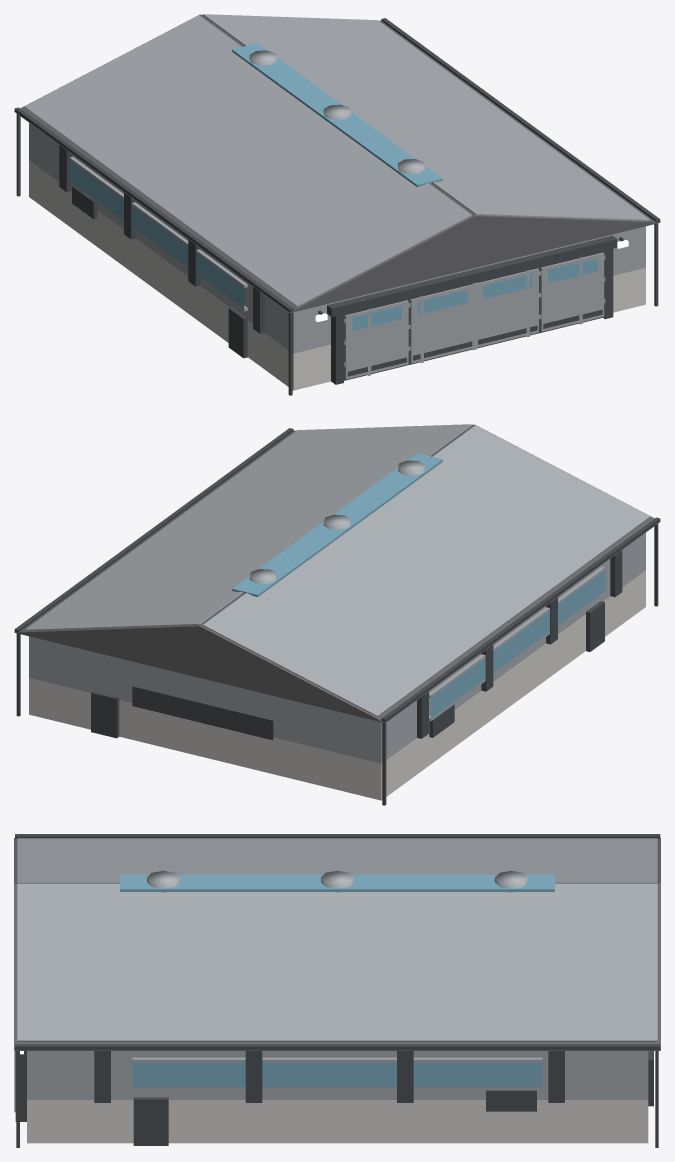
The model's file is hangar_small.glb.
3 views of the same model, one above another, from view 1: azimuth 30°, elevation 25°; view 2: azimuth 150°, elevation 25°; view 3: azimuth 270°, elevation 25° (orthographic). The views are drawn at different scales.
Parts seen in each view (by area): view 1: Merged_PropsMetal, Merged_WindowFrame, hangar_roof, hangar_base, Merged_FacadeGlass; view 2: Merged_PropsMetal, hangar_base, hangar_roof, Merged_WindowFrame, Merged_FacadeGlass; view 3: Merged_PropsMetal, hangar_base, Merged_FacadeGlass, Merged_WindowFrame, hangar_roof.
Part boxes in pixels (x1=…): Merged_PropsMetal: x1=24, y1=14, x2=650, y2=379; Merged_WindowFrame: x1=14, y1=18, x2=660, y2=395; hangar_roof: x1=14, y1=14, x2=660, y2=313; hangar_base: x1=29, y1=160, x2=645, y2=390; Merged_FacadeGlass: x1=69, y1=43, x2=597, y2=331; Merged_PropsMetal: x1=24, y1=424, x2=650, y2=763; hangar_base: x1=29, y1=570, x2=645, y2=800; hangar_roof: x1=14, y1=424, x2=660, y2=723; Merged_WindowFrame: x1=14, y1=428, x2=660, y2=805; Merged_FacadeGlass: x1=232, y1=453, x2=605, y2=718; Merged_PropsMetal: x1=14, y1=838, x2=657, y2=1112; hangar_base: x1=27, y1=1100, x2=648, y2=1143; Merged_FacadeGlass: x1=120, y1=874, x2=554, y2=1087; Merged_WindowFrame: x1=15, y1=834, x2=660, y2=1147; hangar_roof: x1=14, y1=838, x2=660, y2=1050.
Bounding box in the file's own units: 31.6 × 11.4 × 40.61.
